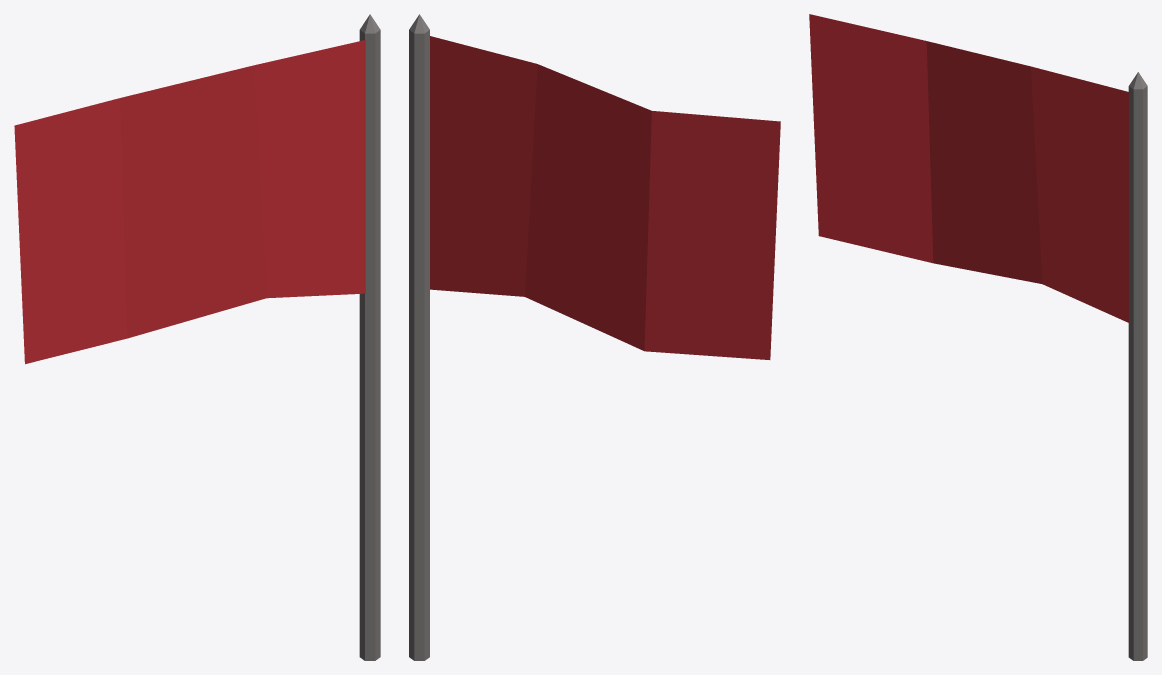
The model's file is props_flag-big.fbx.
3 renders of one model, left to right at view 1: azimuth 30°, elevation 25°; view 2: azimuth 150°, elevation 25°; view 3: azimuth 330°, elevation 25°, orthographic. The views are drawn at different scales.
Visible parts, largest first — view 1: props_flag_big; view 2: props_flag_big; view 3: props_flag_big.
Part boxes in pixels (left/top/right/bottom): props_flag_big: left=14, top=14, right=380, bottom=660; props_flag_big: left=409, top=14, right=780, bottom=660; props_flag_big: left=809, top=14, right=1147, bottom=660.
Bounding box in the file's own units: 119 × 200 × 7.88.
